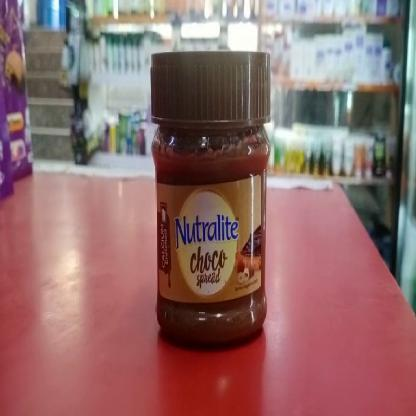Nutralite CHOCO SPREAD CALCIUM 275g: (152, 53, 270, 340)
